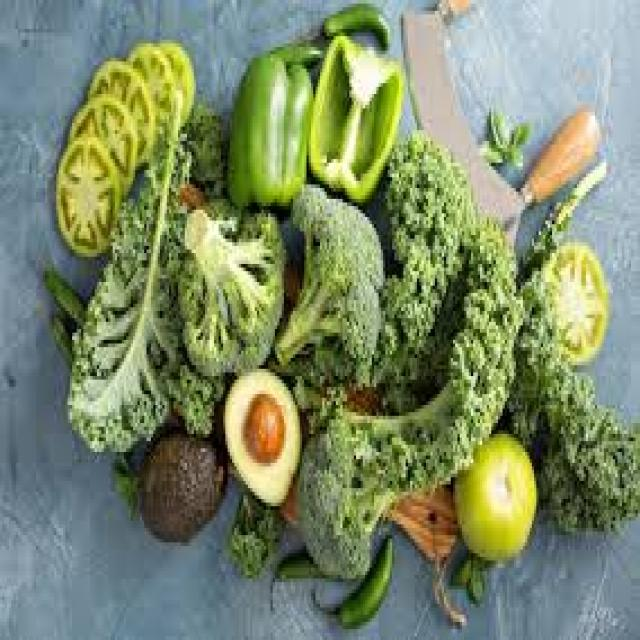organic waste: (297, 126, 518, 578), (65, 87, 196, 448), (507, 267, 638, 528), (272, 177, 378, 369), (173, 199, 284, 369), (307, 29, 401, 199), (223, 54, 313, 206), (451, 426, 536, 560), (221, 362, 300, 506), (138, 423, 228, 542), (518, 163, 606, 278), (541, 239, 608, 365), (54, 134, 120, 253), (311, 532, 392, 626), (86, 58, 153, 170), (68, 94, 135, 199), (126, 44, 176, 144), (160, 354, 221, 430), (180, 98, 226, 192), (230, 488, 282, 571), (268, 546, 325, 607), (160, 36, 194, 127), (320, 0, 390, 43), (243, 390, 284, 463), (478, 108, 525, 170), (40, 264, 86, 322), (112, 456, 138, 517), (457, 553, 487, 600), (50, 308, 72, 362), (268, 43, 320, 65)
